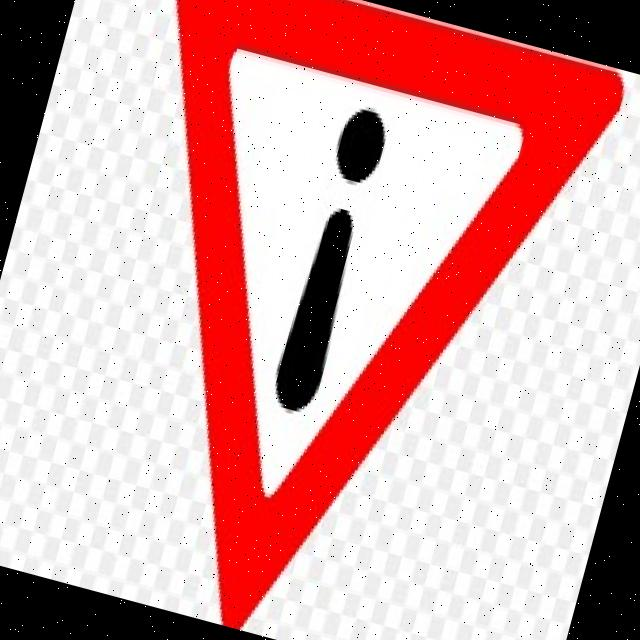warning: (10, 0, 631, 640)
